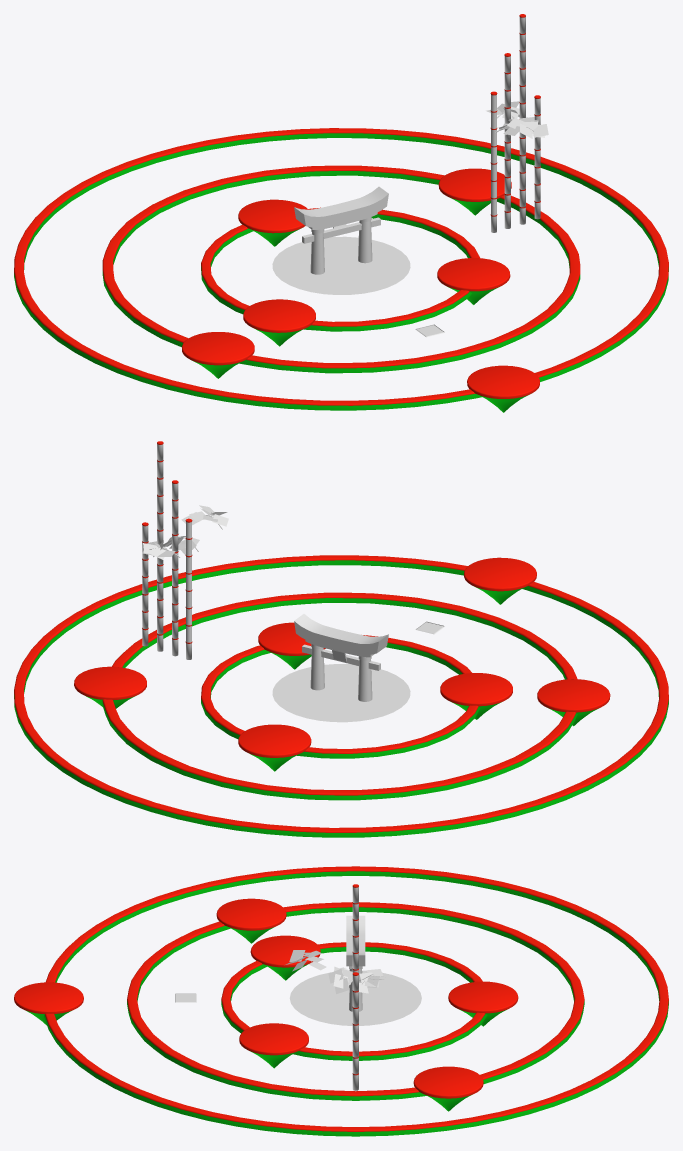
File: spring_house.fbx
The picture shows the model from 3 angles, top to bottom: view 1: azimuth 30°, elevation 25°; view 2: azimuth 150°, elevation 25°; view 3: azimuth 270°, elevation 25°; orthographic projection. The views are drawn at different scales.
Parts seen in each view (by area): view 1: Circle, Circle.001, Circle.003, Circle.002, Gate, Circle.009, Circle.006, Circle.008, Circle.005, Circle.004, Circle.007, Bamboo.002 (+4 smaller); view 2: Circle, Circle.001, Circle.003, Circle.002, Gate, Circle.004, Circle.009, Circle.006, Circle.008, Circle.007, Circle.005, Bamboo.002 (+3 smaller); view 3: Circle, Circle.001, Circle.003, Circle.002, Circle.008, Circle.007, Circle.005, Circle.004, Circle.009, Circle.006, Gate, Bamboo.003 (+4 smaller).
Part boxes in pixels (x1,y1,x2,y2): Circle: (14, 128, 668, 410); Circle.001: (102, 165, 580, 373); Circle.003: (272, 236, 410, 294); Circle.002: (201, 207, 479, 331); Gate: (294, 186, 388, 274); Circle.009: (467, 365, 539, 412); Circle.006: (243, 299, 315, 346); Circle.008: (182, 332, 254, 378); Circle.005: (437, 258, 510, 304); Circle.004: (238, 199, 308, 246); Circle.007: (438, 168, 511, 215); Bamboo.002: (519, 14, 525, 224); Circle: (14, 555, 668, 837); Circle.001: (102, 592, 577, 800); Circle.003: (272, 664, 410, 722); Circle.002: (201, 635, 480, 758); Gate: (294, 614, 388, 701); Circle.004: (238, 724, 311, 771); Circle.009: (464, 557, 536, 604); Circle.006: (440, 673, 512, 719); Circle.008: (537, 679, 610, 726); Circle.007: (74, 666, 146, 708); Circle.005: (258, 622, 325, 669); Bamboo.002: (157, 441, 163, 651); Circle: (44, 866, 668, 1136); Circle.001: (127, 902, 584, 1100); Circle.003: (289, 970, 421, 1025); Circle.002: (221, 942, 487, 1060); Circle.008: (216, 898, 286, 943); Circle.007: (413, 1066, 483, 1111); Circle.005: (239, 1023, 308, 1068); Circle.004: (448, 981, 518, 1026); Circle.009: (14, 982, 83, 1025); Circle.006: (250, 935, 320, 980); Gate: (346, 915, 365, 1011); Bamboo.003: (352, 972, 358, 1090).
Bounding box in the file's own units: 62.7 × 24.94 × 65.57.
